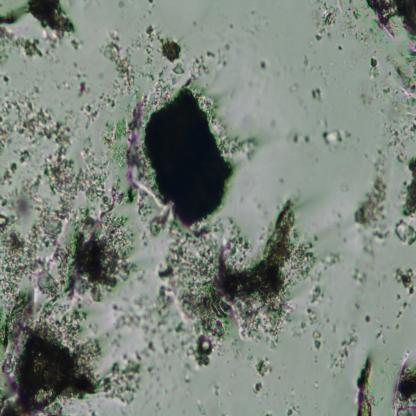Air bubble: (0, 1, 28, 26)
Background material: (154, 203, 311, 355), (0, 292, 141, 415), (40, 209, 132, 294), (115, 285, 173, 356), (0, 90, 73, 146), (51, 135, 106, 208), (352, 152, 392, 243), (0, 211, 44, 290), (0, 150, 46, 221), (387, 46, 416, 149), (108, 117, 137, 211), (366, 0, 416, 46), (101, 34, 138, 96), (143, 25, 185, 75), (313, 4, 364, 42), (389, 350, 416, 416), (0, 24, 43, 64), (27, 0, 74, 36), (356, 352, 378, 416), (82, 89, 112, 129), (328, 330, 358, 370), (394, 268, 416, 321), (188, 48, 216, 85), (227, 134, 260, 161), (402, 155, 416, 218), (322, 124, 351, 150), (313, 254, 339, 282), (146, 210, 171, 238), (308, 285, 324, 327), (394, 219, 416, 246), (38, 36, 57, 61), (254, 354, 273, 378), (74, 72, 90, 96), (284, 394, 301, 414), (368, 54, 380, 81), (257, 54, 273, 73), (374, 321, 386, 345), (180, 363, 192, 387), (356, 309, 372, 326), (292, 132, 310, 146), (312, 330, 322, 354), (138, 226, 149, 245), (311, 85, 323, 102), (69, 36, 84, 49), (251, 379, 264, 394), (354, 271, 366, 285), (0, 73, 10, 86)
Microfibre: (143, 88, 232, 224)
